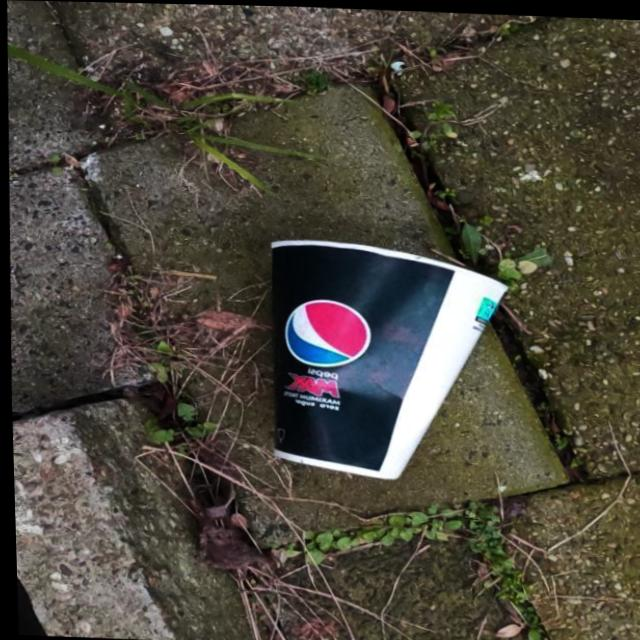Cup: (255, 230, 519, 485)
